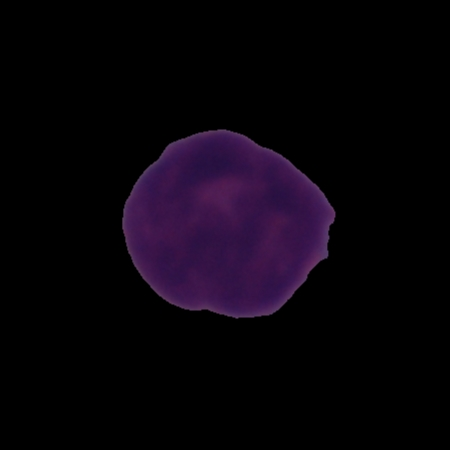ALL: (120, 126, 339, 322)
